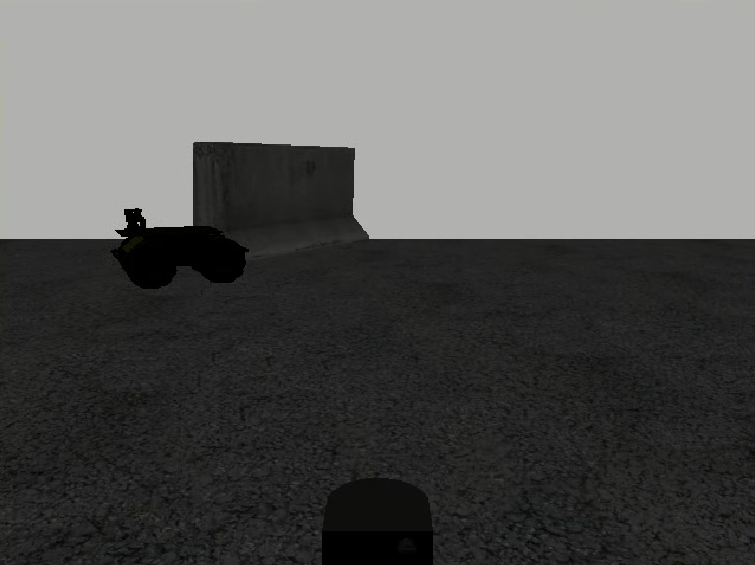husky: (110, 226, 250, 288)
